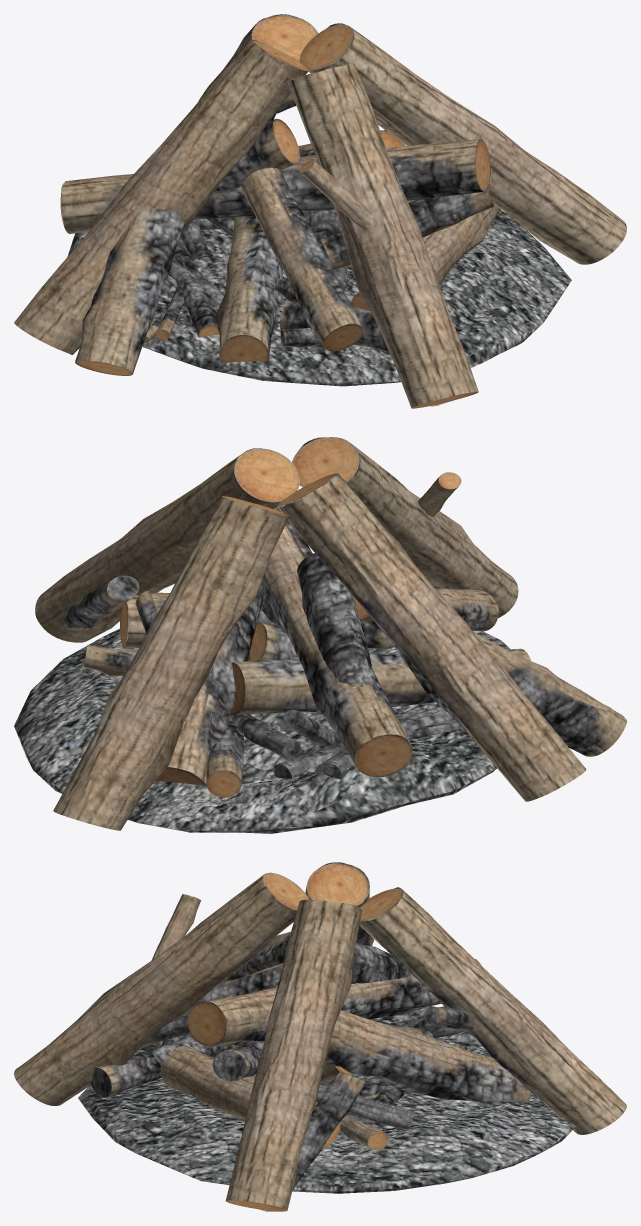
3 renders of one model, top to bottom at view 1: azimuth 30°, elevation 25°; view 2: azimuth 150°, elevation 25°; view 3: azimuth 270°, elevation 25°, orthographic. The views are drawn at different scales.
Visible parts, largest first — view 1: CampFireWood; view 2: CampFireWood; view 3: CampFireWood.
Part boxes in pixels (bbox=[...]): CampFireWood: bbox=[14, 14, 626, 408]; CampFireWood: bbox=[14, 437, 626, 833]; CampFireWood: bbox=[14, 862, 626, 1211].
Size of the model in its own units: 149 by 69.52 by 158.
Materials: 1 (1 with a texture image).
